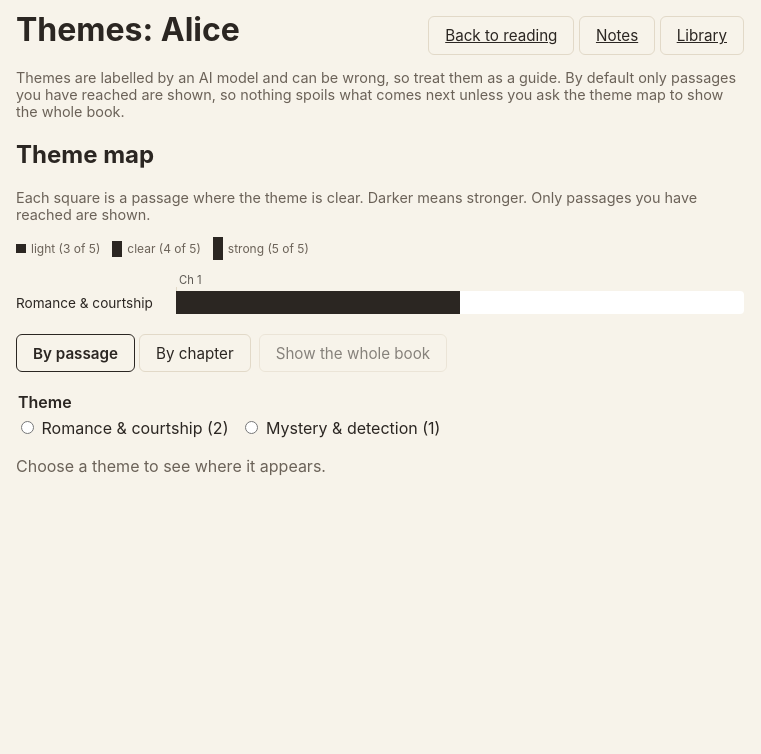
ThemesPage › announces_the_results_politely_and_labels_each_passage_s_theme_list
The width and height of the screenshot is (761, 754).
Step 1. Click the radio button labelled "Romance & courtship (2)" → (28, 428), box [21, 422, 34, 434]
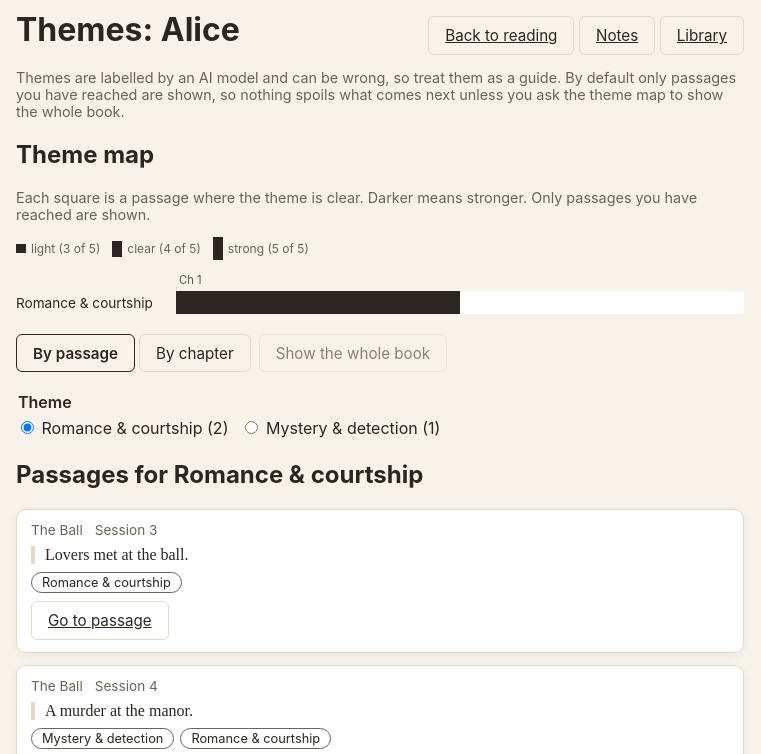
Check: the text "Lovers met at the ball." is shown, box [31, 546, 729, 564]
Check: the element that starts with "Passages for" shows "Lovers met at the ball.", box [45, 546, 188, 563]
Check: the number of lists named "Themes in this passage" is 2, box [31, 572, 182, 593]; [31, 728, 331, 749]
